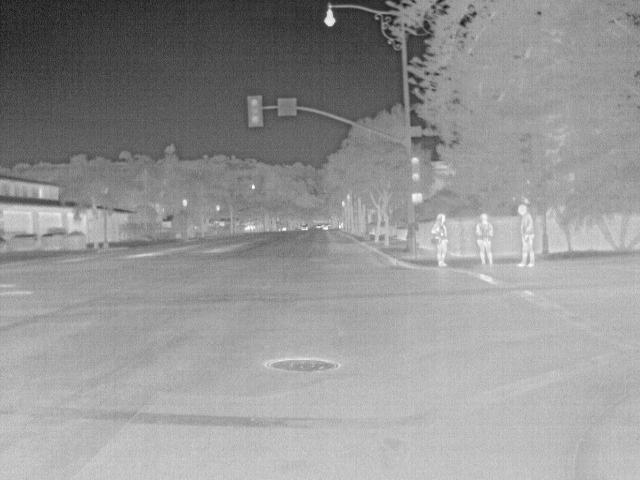person: (517, 204, 537, 268), (431, 213, 450, 269), (477, 212, 495, 267)
